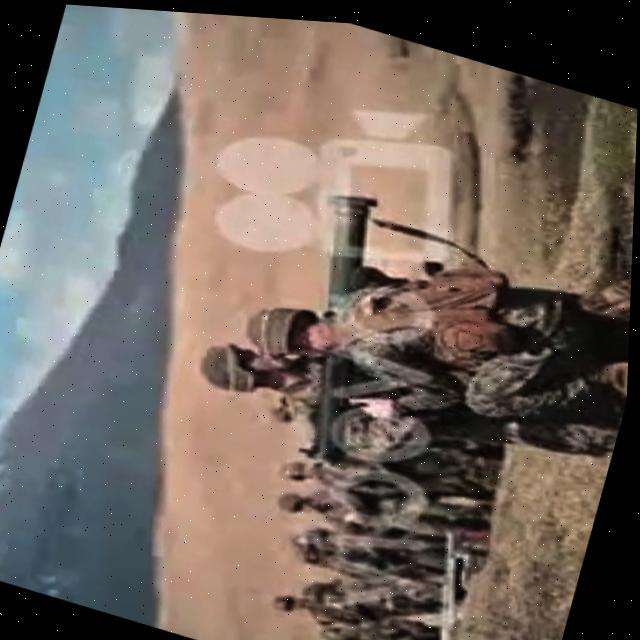rocket: (251, 172, 433, 475)
